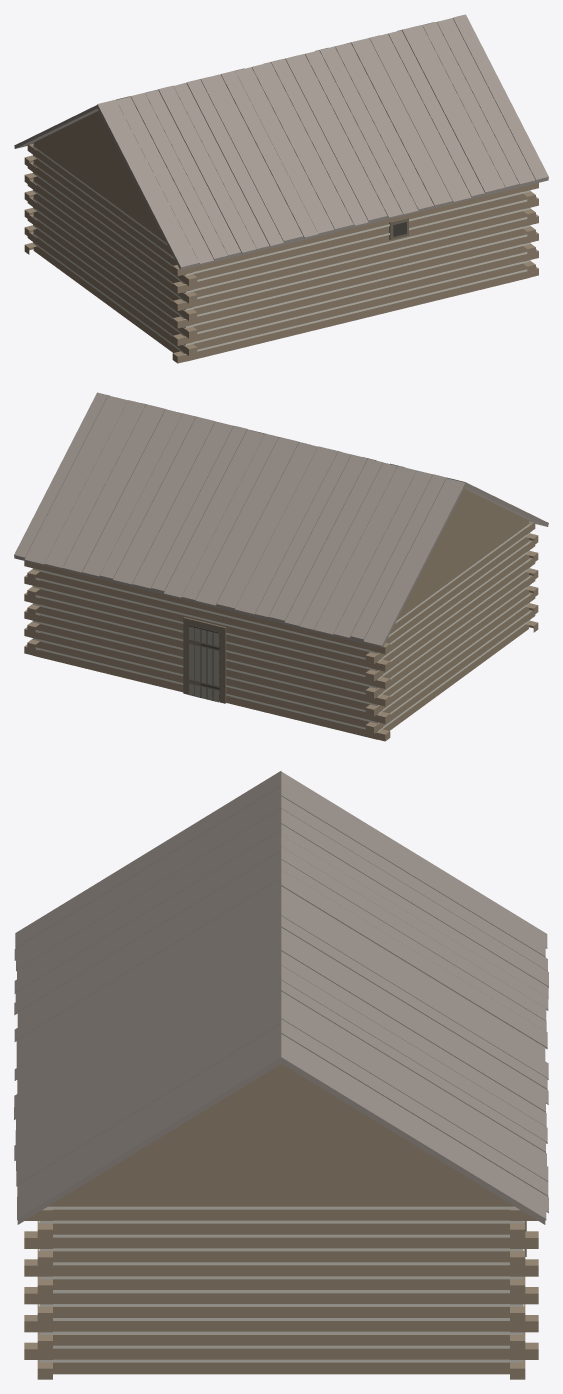
Rendered from fort_dearborn_shop__shop_1830.glb.
3 renders of one model, top to bottom at view 1: azimuth 30°, elevation 25°; view 2: azimuth 150°, elevation 25°; view 3: azimuth 270°, elevation 25°, orthographic. The views are drawn at different scales.
Parts seen in each view (by area): view 1: fort_dearborn_shop__shop_1830; view 2: fort_dearborn_shop__shop_1830; view 3: fort_dearborn_shop__shop_1830.
Boxes of the visible parts, x1=… form: fort_dearborn_shop__shop_1830: x1=14, y1=14, x2=548, y2=363; fort_dearborn_shop__shop_1830: x1=14, y1=392, x2=548, y2=741; fort_dearborn_shop__shop_1830: x1=14, y1=771, x2=548, y2=1379.
Size of the model in its own units: 10.38 by 5.53 by 8.2.
